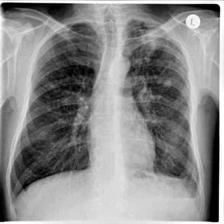tuberculosis: (7, 15, 204, 202)
